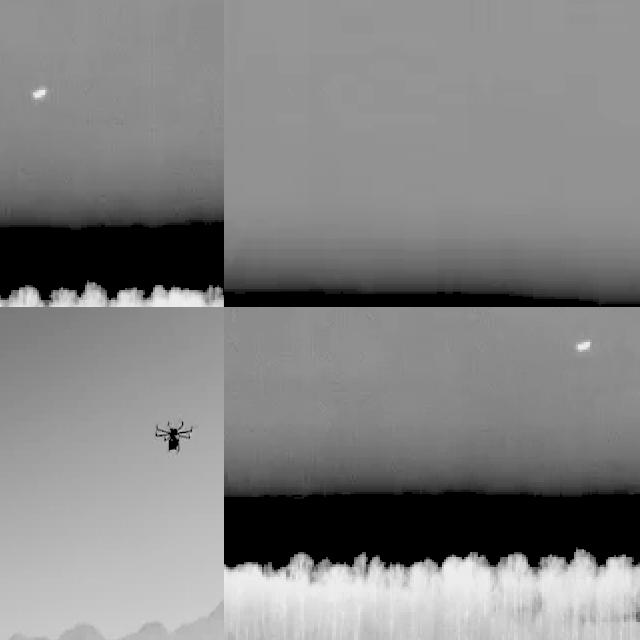1: (24, 81, 60, 111), (567, 334, 603, 364)
drone: (151, 410, 197, 460)
